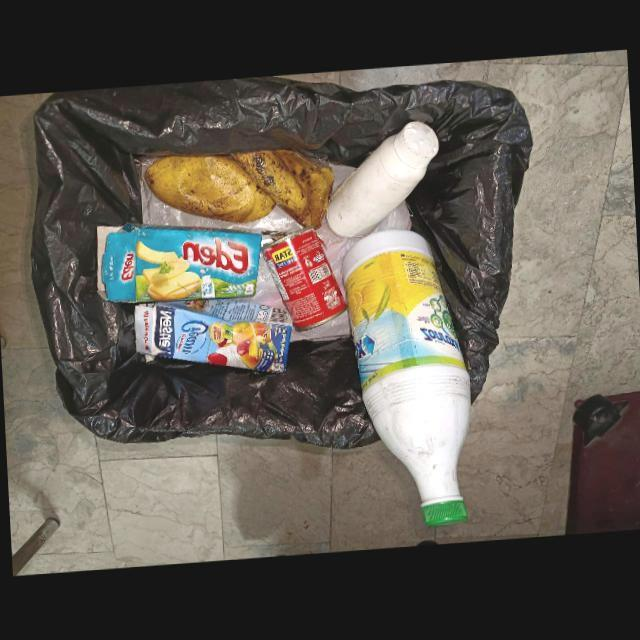aluminum: (261, 225, 348, 333)
cardboard: (96, 223, 262, 304)
plastic_bottle: (341, 230, 471, 529), (325, 122, 440, 240)
